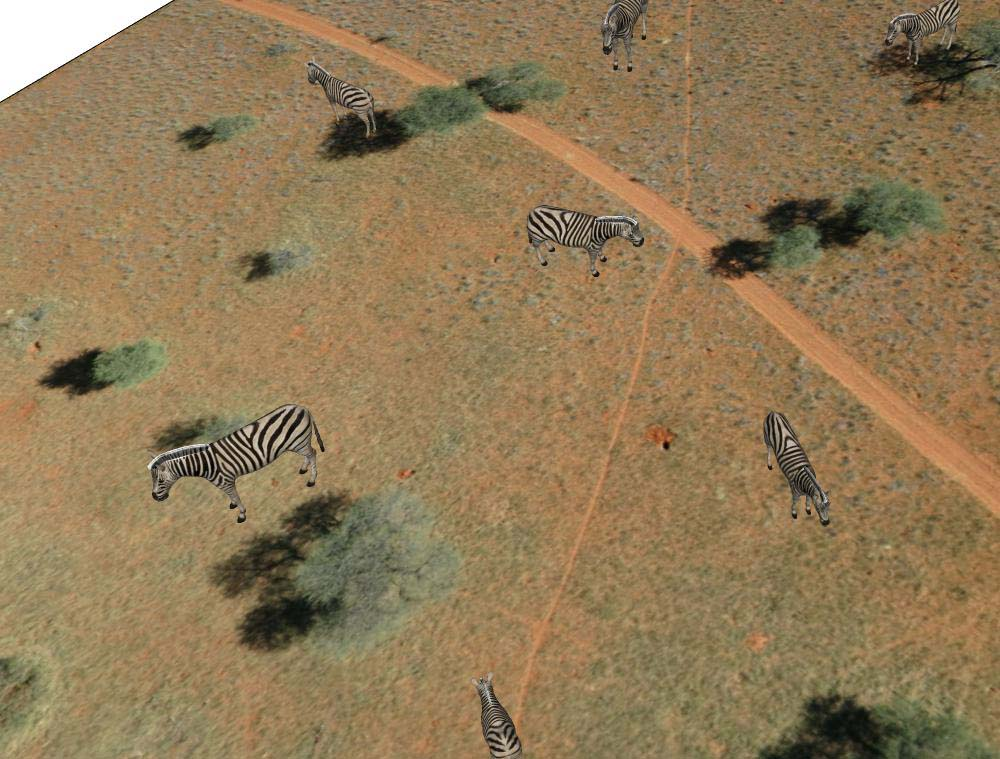zebra: (148, 407, 325, 521), (526, 199, 647, 280), (747, 413, 828, 527), (299, 53, 379, 150), (467, 670, 528, 759), (883, 2, 963, 62), (596, 1, 647, 73)
